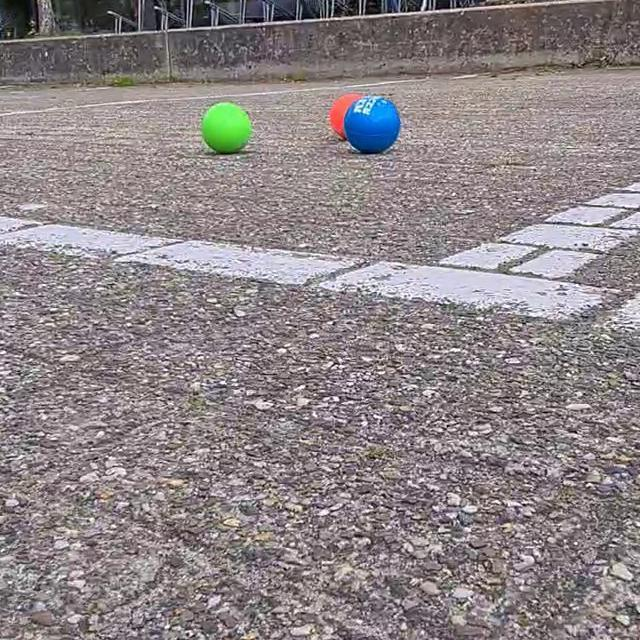ball: (344, 92, 405, 157), (198, 98, 258, 156)
